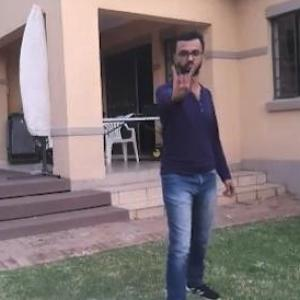takeoff-hand: (161, 56, 197, 105)
